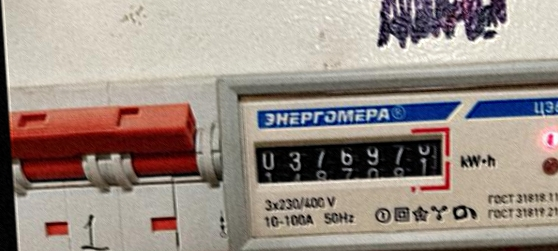0: (259, 148, 275, 171)
1: (417, 156, 429, 176)
3: (287, 150, 303, 172)
6: (338, 142, 355, 166)
7: (312, 145, 329, 170), (390, 142, 407, 166)
9: (364, 143, 380, 166)
screen: (244, 116, 457, 205)
